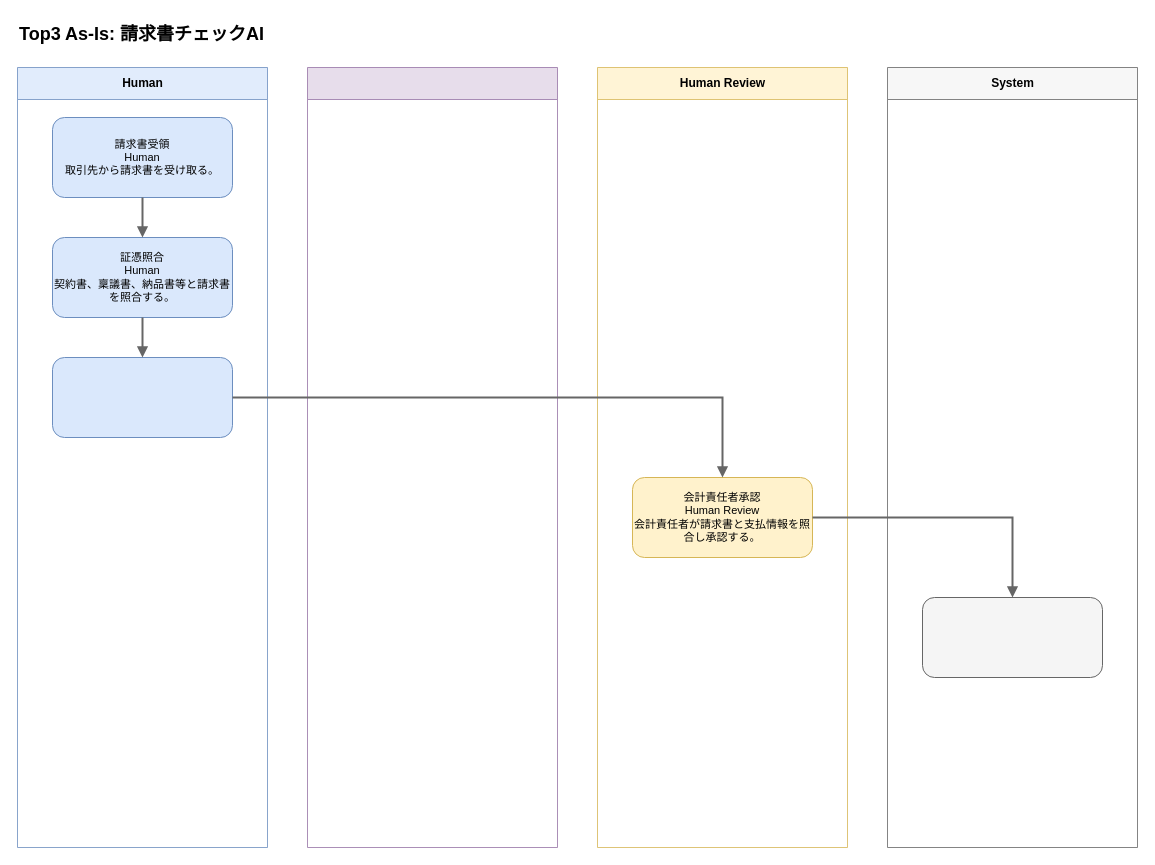
Image size: 1155x865. Some labels were removed from this diagram. Each missing label, with the centre of its shape:
AI: pixel 432 457
支払実行・伝票入力 System 承認後に振込し、会計伝票を作成する。: pixel 1012 637
支払情報作成 Human 確認済み請求書をもとに支払情報を作成する。: pixel 142 397
